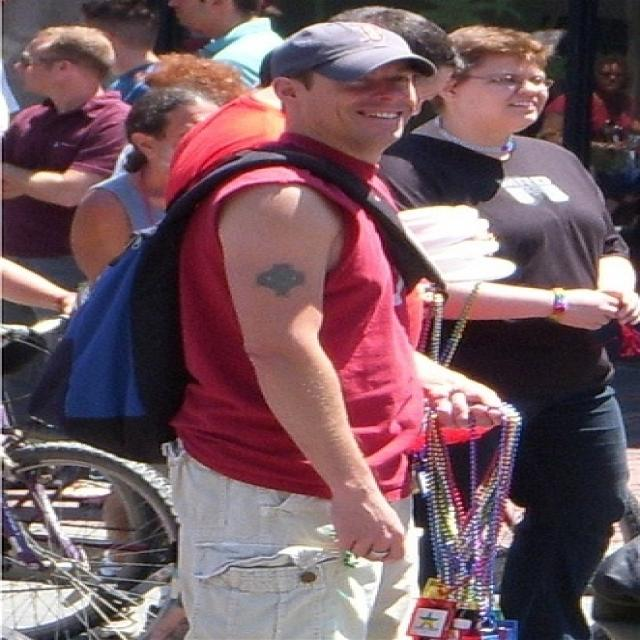piel: (223, 188, 410, 562), (71, 105, 217, 276), (436, 256, 638, 334), (279, 61, 421, 161), (451, 57, 550, 142), (410, 351, 507, 427), (19, 31, 110, 111), (0, 252, 77, 321), (86, 26, 159, 75), (174, 0, 241, 36)
